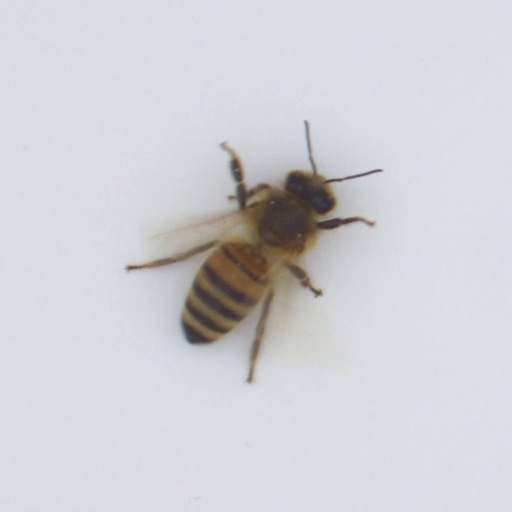Bee: (176, 174, 336, 345)
Thorax: (251, 194, 311, 256)
